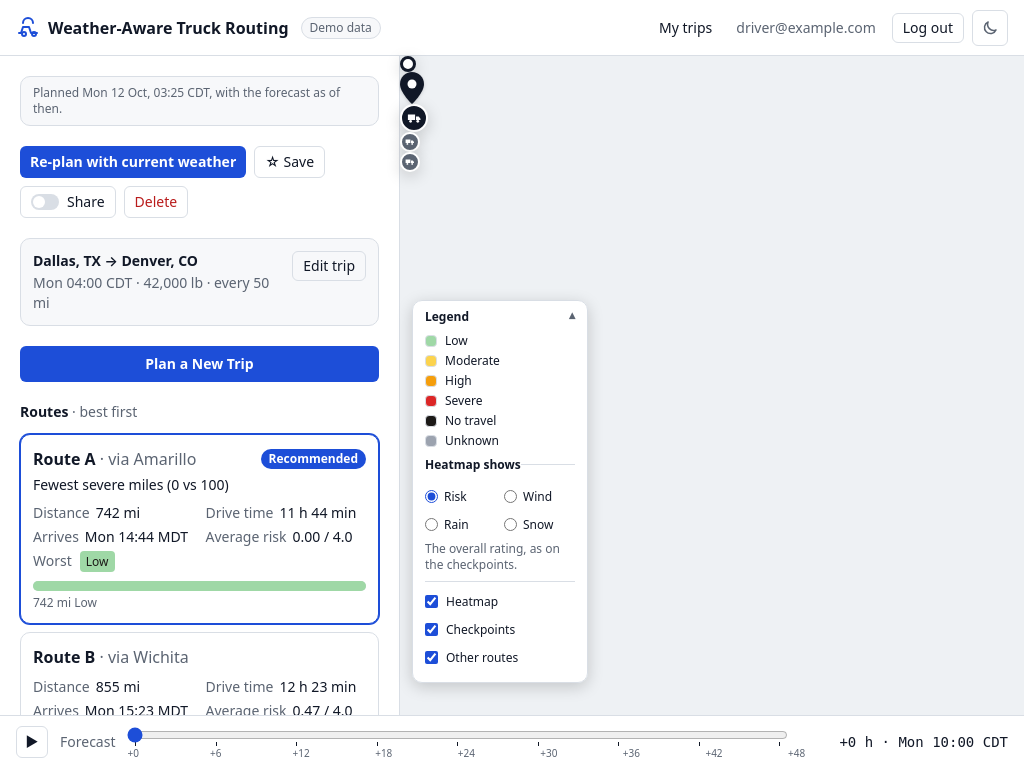
Test case: trip actions › deletes after asking, then takes a user to {"user":{"email":"driver@example.com"},"guest":false,"recent_trip_count":0}
The image size is (1024, 768).
Click the button "Delete".
click(156, 202)  # box x1=124 y1=186 x2=188 y2=218
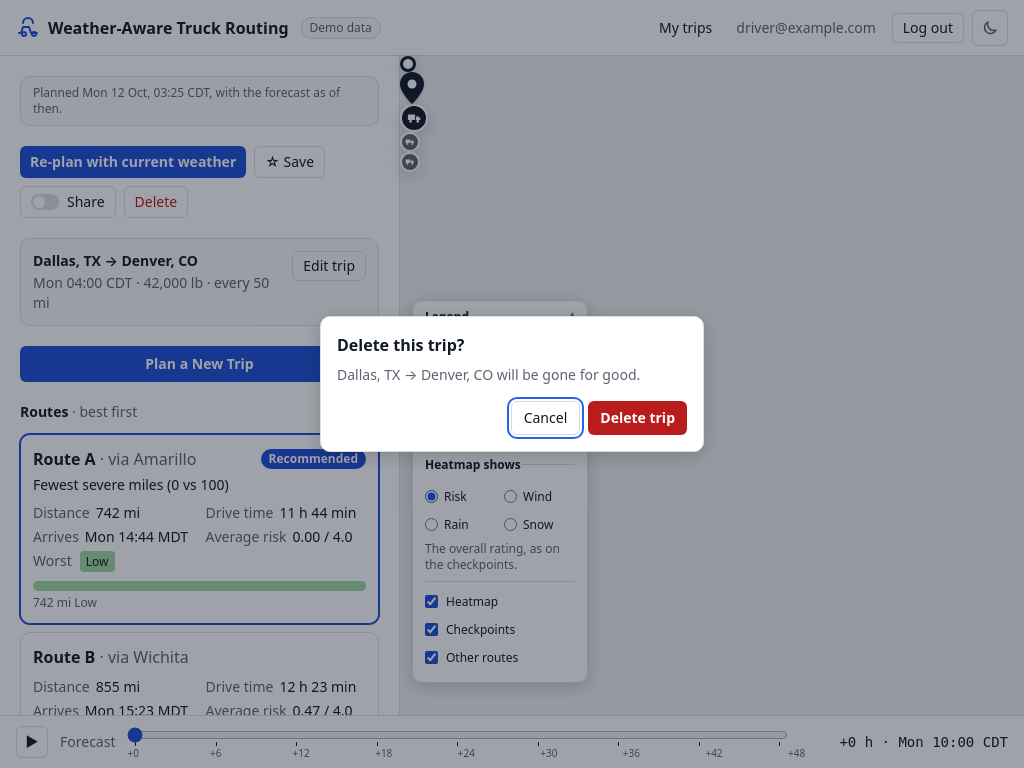
Click the button "Delete trip".
click(638, 418)  # box x1=588 y1=401 x2=687 y2=435
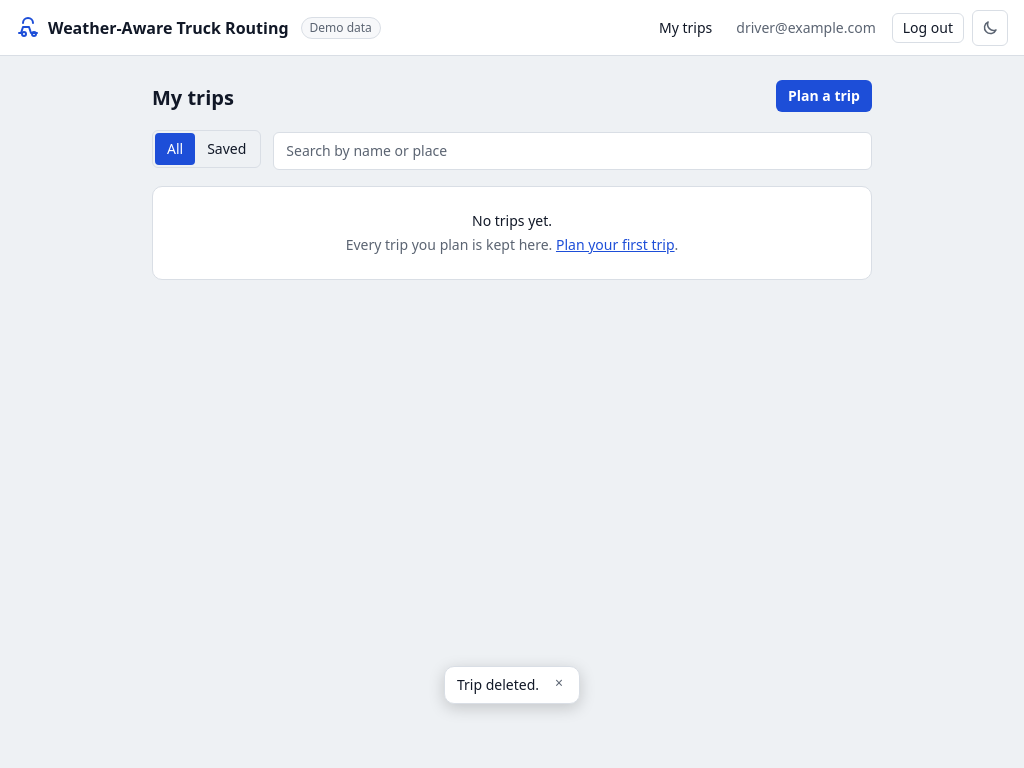
Expected: the heading "My trips" is shown, x1=152 y1=84 x2=234 y2=112
